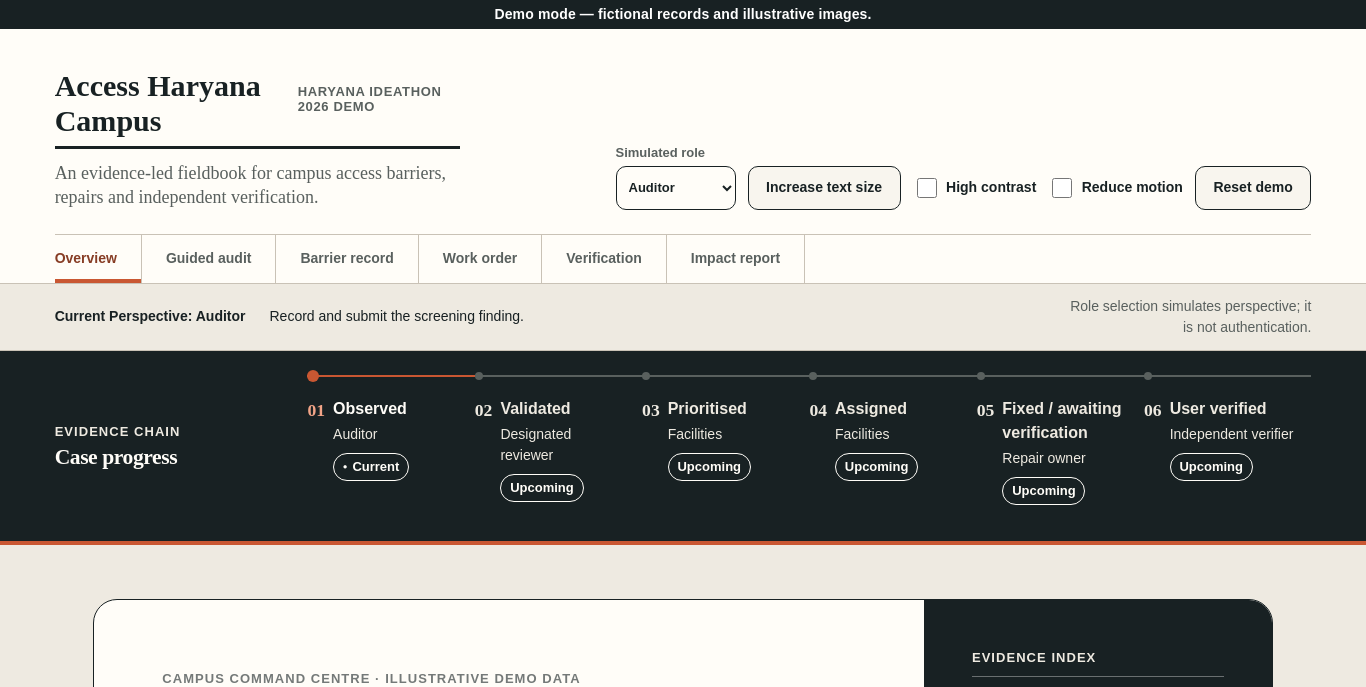
Test: accessible application shell › identifies fictional demo data and simulated roles without implying authentication
This screenshot has width=1366, height=687.
Expected: the text "Demo mode — fictional records and illustrative images." is shown, x1=0 y1=0 x2=1365 y2=29
Expected: the text "simulates perspective; it is not authentication" is shown, x1=1070 y1=298 x2=1311 y2=335
Select "Facilities" in the dropdown labelled "Simulated role" at (676,188), box x1=616 y1=166 x2=736 y2=210
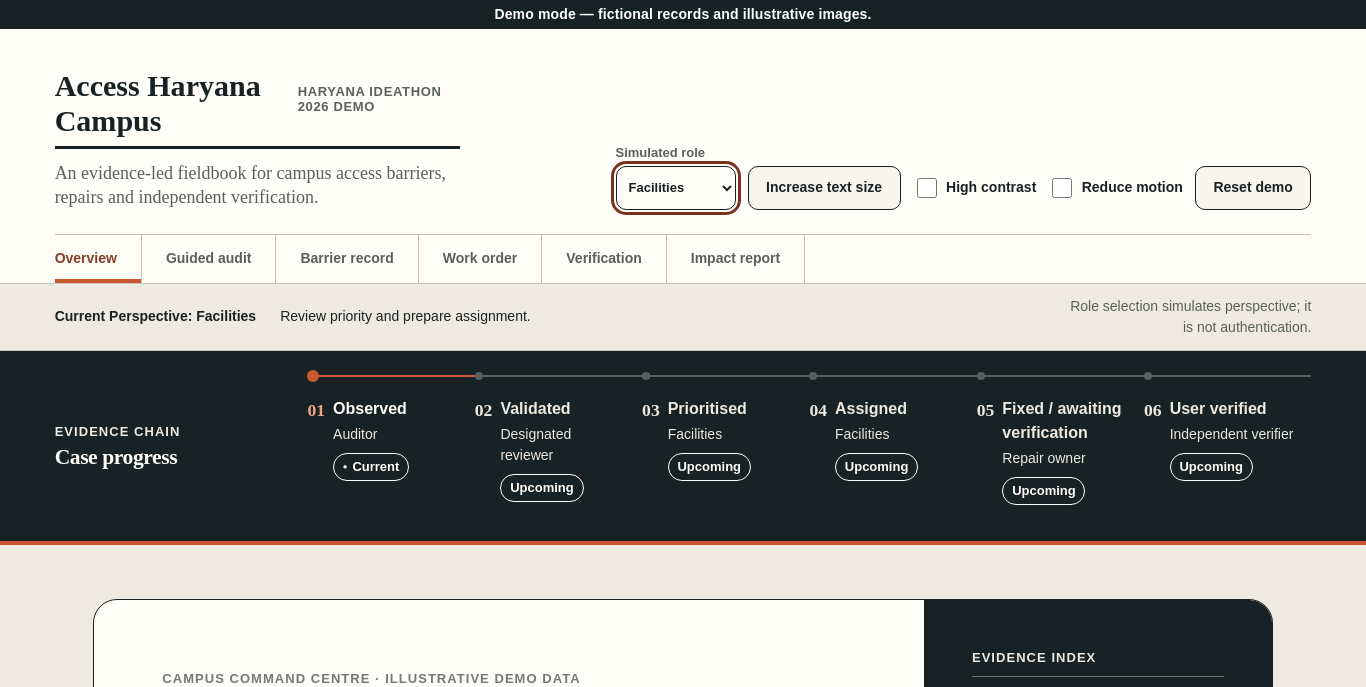
Expected: the text "Current perspective: facilities" is shown, x1=55 y1=306 x2=256 y2=327
Expected: the text "Review priority and prepare assignment." is shown, x1=280 y1=306 x2=531 y2=327
